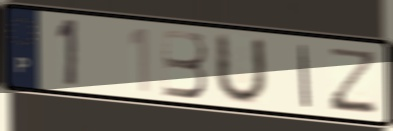1: (53, 17, 79, 90), (128, 26, 151, 95)
B: (159, 26, 209, 101)
I: (297, 41, 312, 111)
U: (213, 30, 270, 106)
Z: (327, 45, 380, 116)
